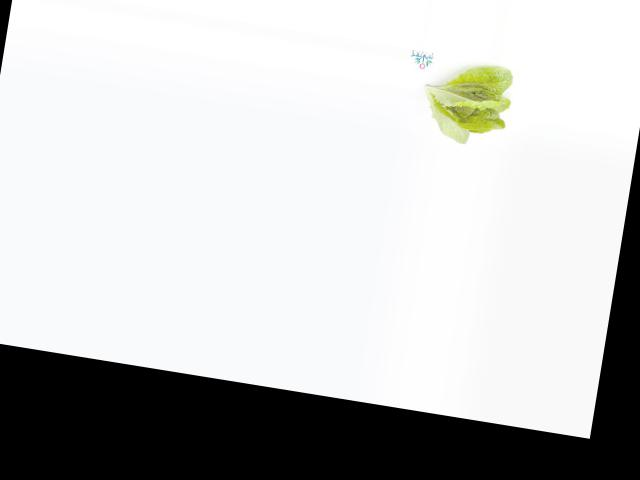lettuce: (416, 56, 518, 152)
